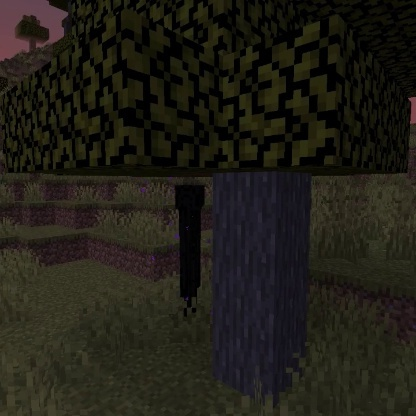enderman: (173, 183, 206, 316)
